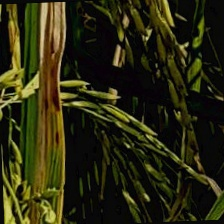Leaf_Blast: (25, 4, 78, 198)
